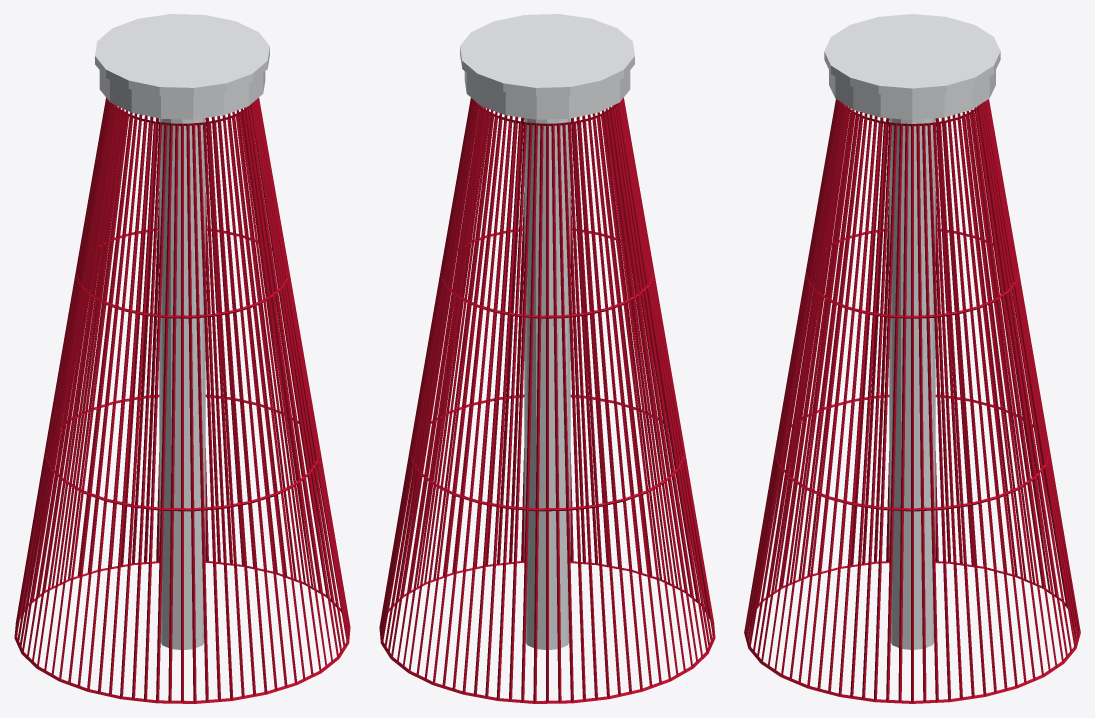
File: torre-cota.glb
3 views of the same model, side by side, from view 1: azimuth 30°, elevation 25°; view 2: azimuth 150°, elevation 25°; view 3: azimuth 270°, elevation 25° (orthographic).
Visible parts, largest first — view 1: torre-cota; view 2: torre-cota; view 3: torre-cota.
Boxes of the visible parts, bbox=[...] form: torre-cota: bbox=[14, 14, 350, 703]; torre-cota: bbox=[379, 14, 715, 703]; torre-cota: bbox=[744, 14, 1080, 703].
Size of the model in its own units: 36.27 by 70 by 36.27.
